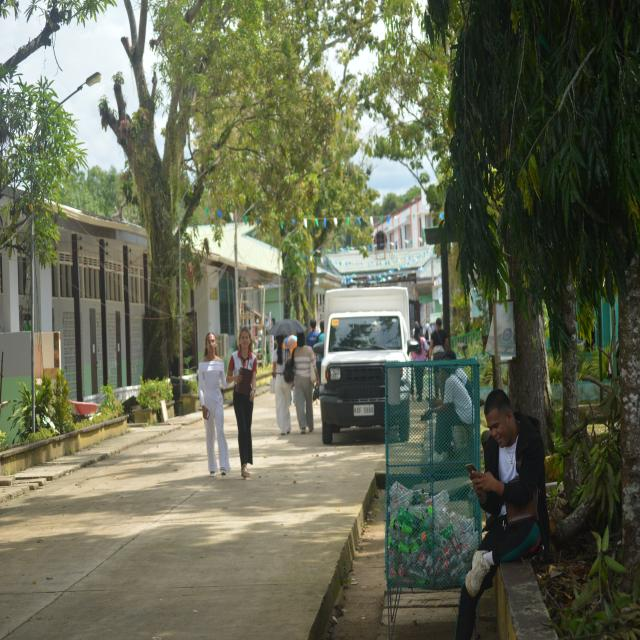person: (455, 390, 549, 639), (227, 328, 257, 478), (199, 333, 230, 476), (293, 333, 318, 433), (273, 336, 291, 434), (429, 318, 450, 360), (412, 322, 427, 361), (306, 319, 319, 348)
